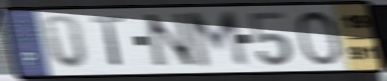0: (43, 14, 90, 72)
5: (248, 10, 295, 68)
M: (183, 9, 252, 71)
N: (141, 12, 201, 71)
O: (294, 9, 345, 67)
T: (89, 15, 127, 69)
